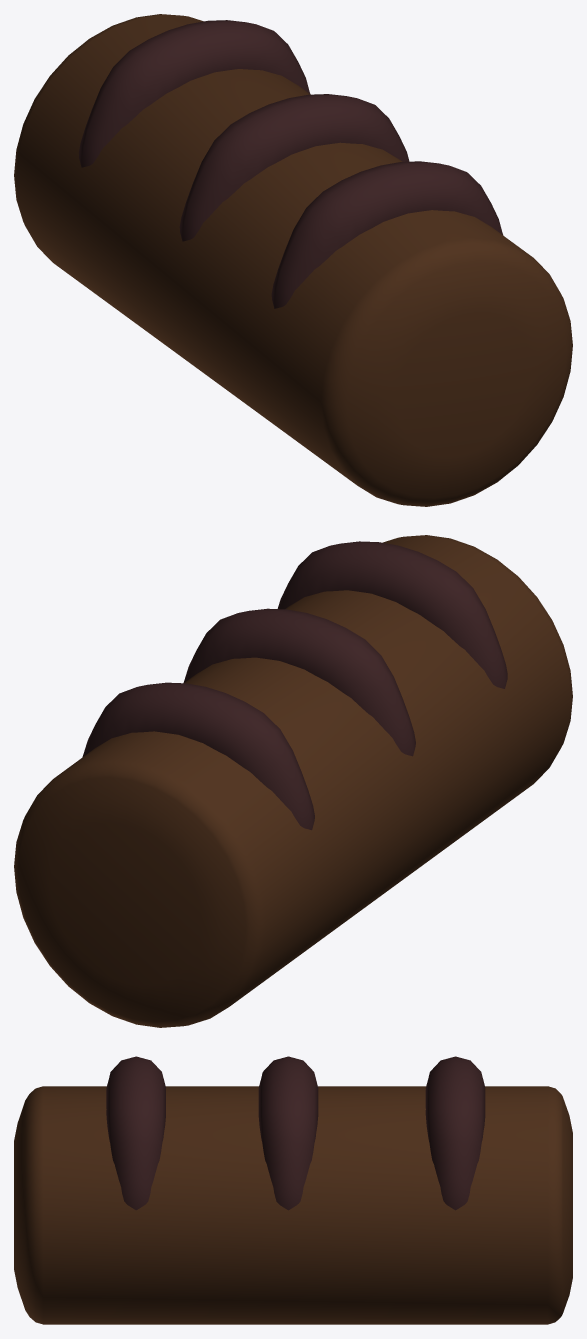
File: PRALINKA4.fbx
The picture shows the model from 3 angles, top to bottom: view 1: azimuth 30°, elevation 25°; view 2: azimuth 150°, elevation 25°; view 3: azimuth 270°, elevation 25°; orthographic projection. The views are drawn at different scales.
Visible parts, largest first — view 1: Cylinder, Torus.003, Torus.002, Torus.001; view 2: Cylinder, Torus.002, Torus.001, Torus.003; view 3: Cylinder, Torus.002, Torus.001, Torus.003.
Boxes of the visible parts, x1,y1,x2,y2 form: Cylinder: (14, 14, 572, 506); Torus.003: (271, 161, 503, 308); Torus.002: (78, 20, 310, 167); Torus.001: (179, 94, 409, 241); Cylinder: (14, 535, 572, 1027); Torus.002: (82, 682, 314, 830); Torus.001: (183, 608, 415, 756); Torus.003: (277, 541, 507, 688); Cylinder: (14, 1086, 572, 1324); Torus.002: (425, 1056, 485, 1210); Torus.001: (258, 1056, 318, 1210); Torus.003: (106, 1056, 165, 1210).
Size of the model in its own units: 200 by 225 by 469.
